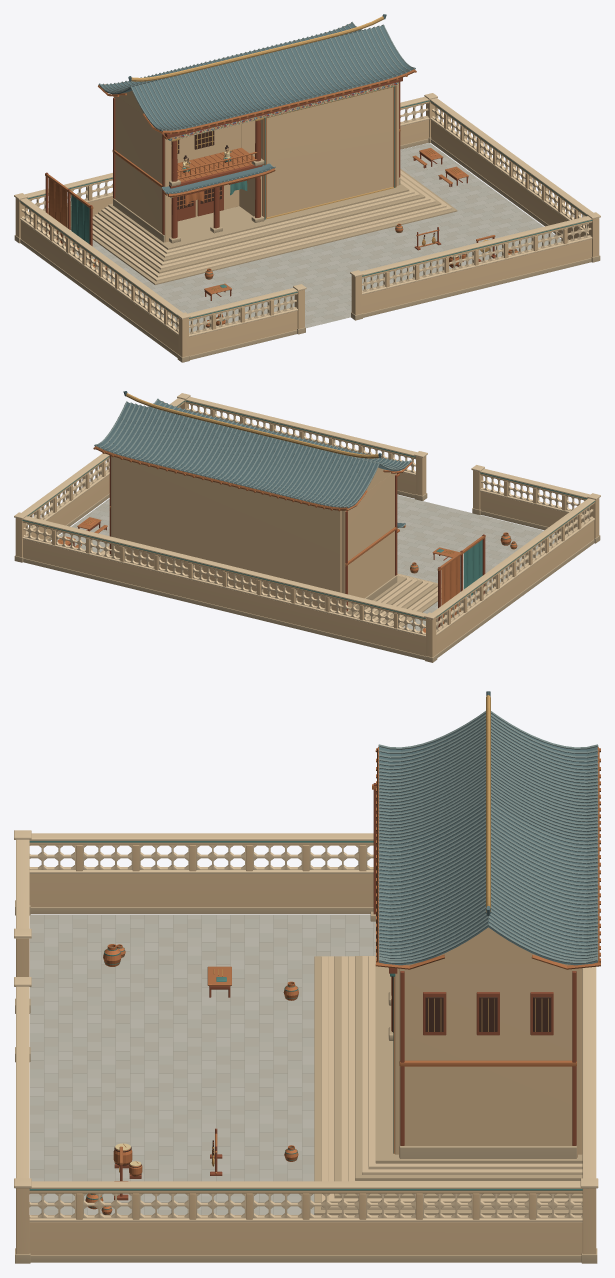
File: music-pavilion.glb
3 renders of one model, top to bottom at view 1: azimuth 30°, elevation 25°; view 2: azimuth 150°, elevation 25°; view 3: azimuth 270°, elevation 25°, orthographic. The views are drawn at different scales.
Parts seen in each view (by area): view 1: court-paving--court-limestone-0, architecture--plaster.001, courtyard-enclosure--plaster.001, courtyard-enclosure--stone-light.001, main-roof--tile.001, terraced-foundation--stone-light, terraced-foundation--stone, main-roof--tile-edge.001, courtyard-enclosure--stone, porch--wood.001, porch--wood-light.001, porch--plaster.001 (+15 smaller); view 2: architecture--plaster.001, courtyard-enclosure--plaster.001, courtyard-enclosure--stone-light.001, main-roof--tile.001, court-paving--court-limestone-0, main-roof--tile-edge.001, courtyard-enclosure--stone, courtyard-enclosure--teal.001, terraced-foundation--stone-light, main-roof--wood-light.001, main-roof--ochre.001, terraced-foundation--stone (+5 smaller); view 3: court-paving--court-limestone-0, main-roof--tile-edge.001, courtyard-enclosure--plaster.001, architecture--plaster.001, courtyard-enclosure--stone-light.001, main-roof--tile.001, terraced-foundation--stone-light, terraced-foundation--stone, court-paving--court-fine-joints, courtyard-enclosure--stone, mural-frame--wood.001, mural-frame--stone.001 (+8 smaller).
Boxes of the visible parts, x1,y1,x2,y2 form: court-paving--court-limestone-0: [71, 143, 561, 332]; architecture--plaster.001: [113, 85, 398, 242]; courtyard-enclosure--plaster.001: [15, 100, 599, 357]; courtyard-enclosure--stone-light.001: [14, 93, 600, 336]; main-roof--tile.001: [99, 14, 413, 131]; terraced-foundation--stone-light: [92, 170, 451, 281]; terraced-foundation--stone: [92, 168, 457, 284]; main-roof--tile-edge.001: [98, 21, 415, 131]; courtyard-enclosure--stone: [14, 137, 600, 362]; porch--wood.001: [169, 120, 262, 238]; porch--wood-light.001: [163, 135, 257, 208]; porch--plaster.001: [177, 123, 241, 162]; architecture--plaster.001: [111, 456, 396, 612]; courtyard-enclosure--plaster.001: [15, 400, 599, 657]; courtyard-enclosure--stone-light.001: [14, 393, 600, 637]; main-roof--tile.001: [96, 391, 410, 508]; court-paving--court-limestone-0: [51, 495, 557, 631]; main-roof--tile-edge.001: [94, 398, 411, 508]; courtyard-enclosure--stone: [14, 490, 600, 662]; courtyard-enclosure--teal.001: [22, 400, 595, 618]; terraced-foundation--stone-light: [101, 547, 441, 624]; main-roof--wood-light.001: [93, 400, 412, 511]; main-roof--ochre.001: [126, 393, 378, 458]; terraced-foundation--stone: [100, 545, 441, 626]; court-paving--court-limestone-0: [30, 915, 375, 1214]; main-roof--tile-edge.001: [378, 711, 598, 963]; courtyard-enclosure--plaster.001: [16, 842, 596, 1255]; architecture--plaster.001: [394, 964, 582, 1157]; courtyard-enclosure--stone-light.001: [14, 830, 598, 1222]; main-roof--tile.001: [379, 691, 597, 965]; terraced-foundation--stone-light: [321, 956, 582, 1209]; terraced-foundation--stone: [314, 956, 582, 1214]; court-paving--court-fine-joints: [30, 915, 375, 1214]; courtyard-enclosure--stone: [15, 900, 597, 1263]; mural-frame--wood.001: [400, 971, 576, 1145]; mural-frame--stone.001: [399, 1146, 576, 1158].
Bounding box in the file's own units: 46.98 × 17.83 × 32.78.
22 materials, 1 textured.
